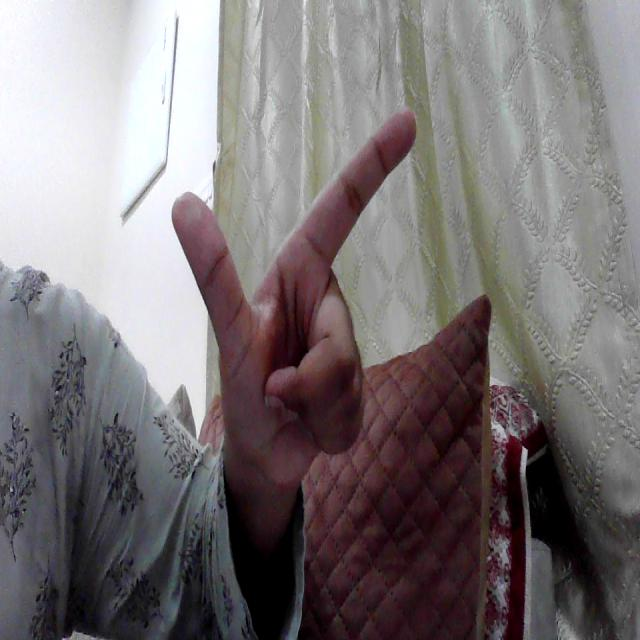Chandrakala: (161, 74, 445, 490)
